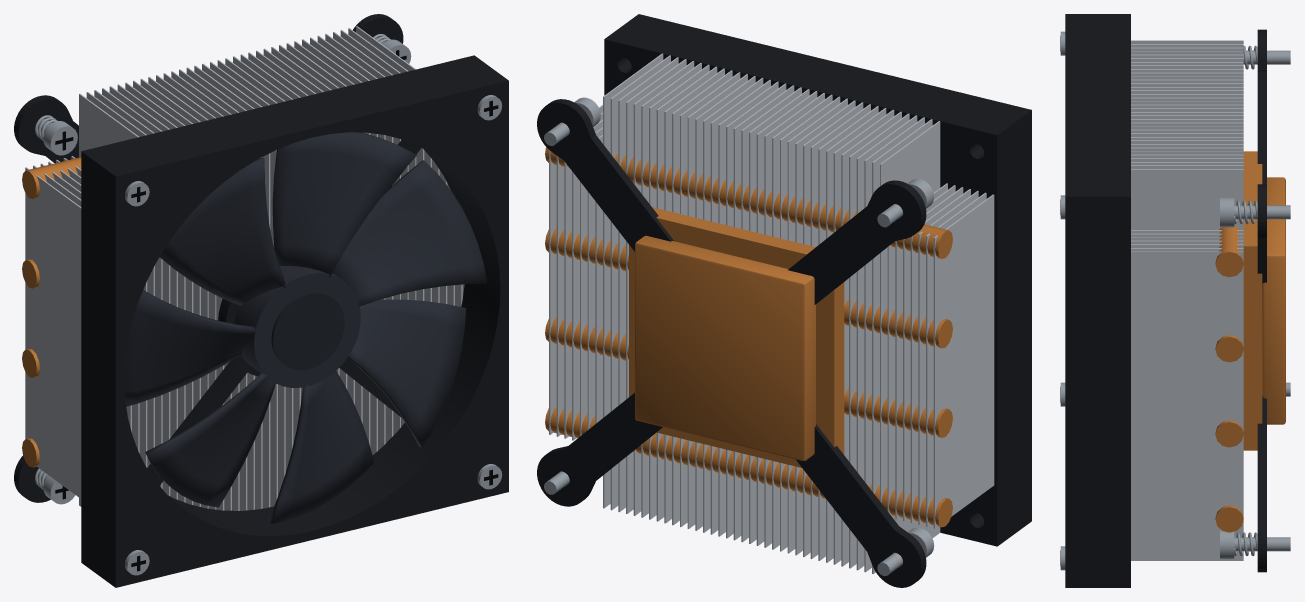
File: f_low_profile_47.glb
The picture shows the model from 3 angles, left to right: view 1: azimuth 30°, elevation 25°; view 2: azimuth 150°, elevation 25°; view 3: azimuth 270°, elevation 25°; orthographic projection. The views are drawn at different scales.
Parts seen in each view (by area): view 1: part_cooler, cooler_fan; view 2: part_cooler; view 3: part_cooler.
Boxes of the visible parts, <box> form: part_cooler: <box>14,14,508,587</box>; cooler_fan: <box>124,132,487,523</box>; part_cooler: <box>537,14,1031,587</box>; part_cooler: <box>1060,14,1290,587</box>.
Bounding box in the file's own units: 0.92 × 0.92 × 0.4903.
